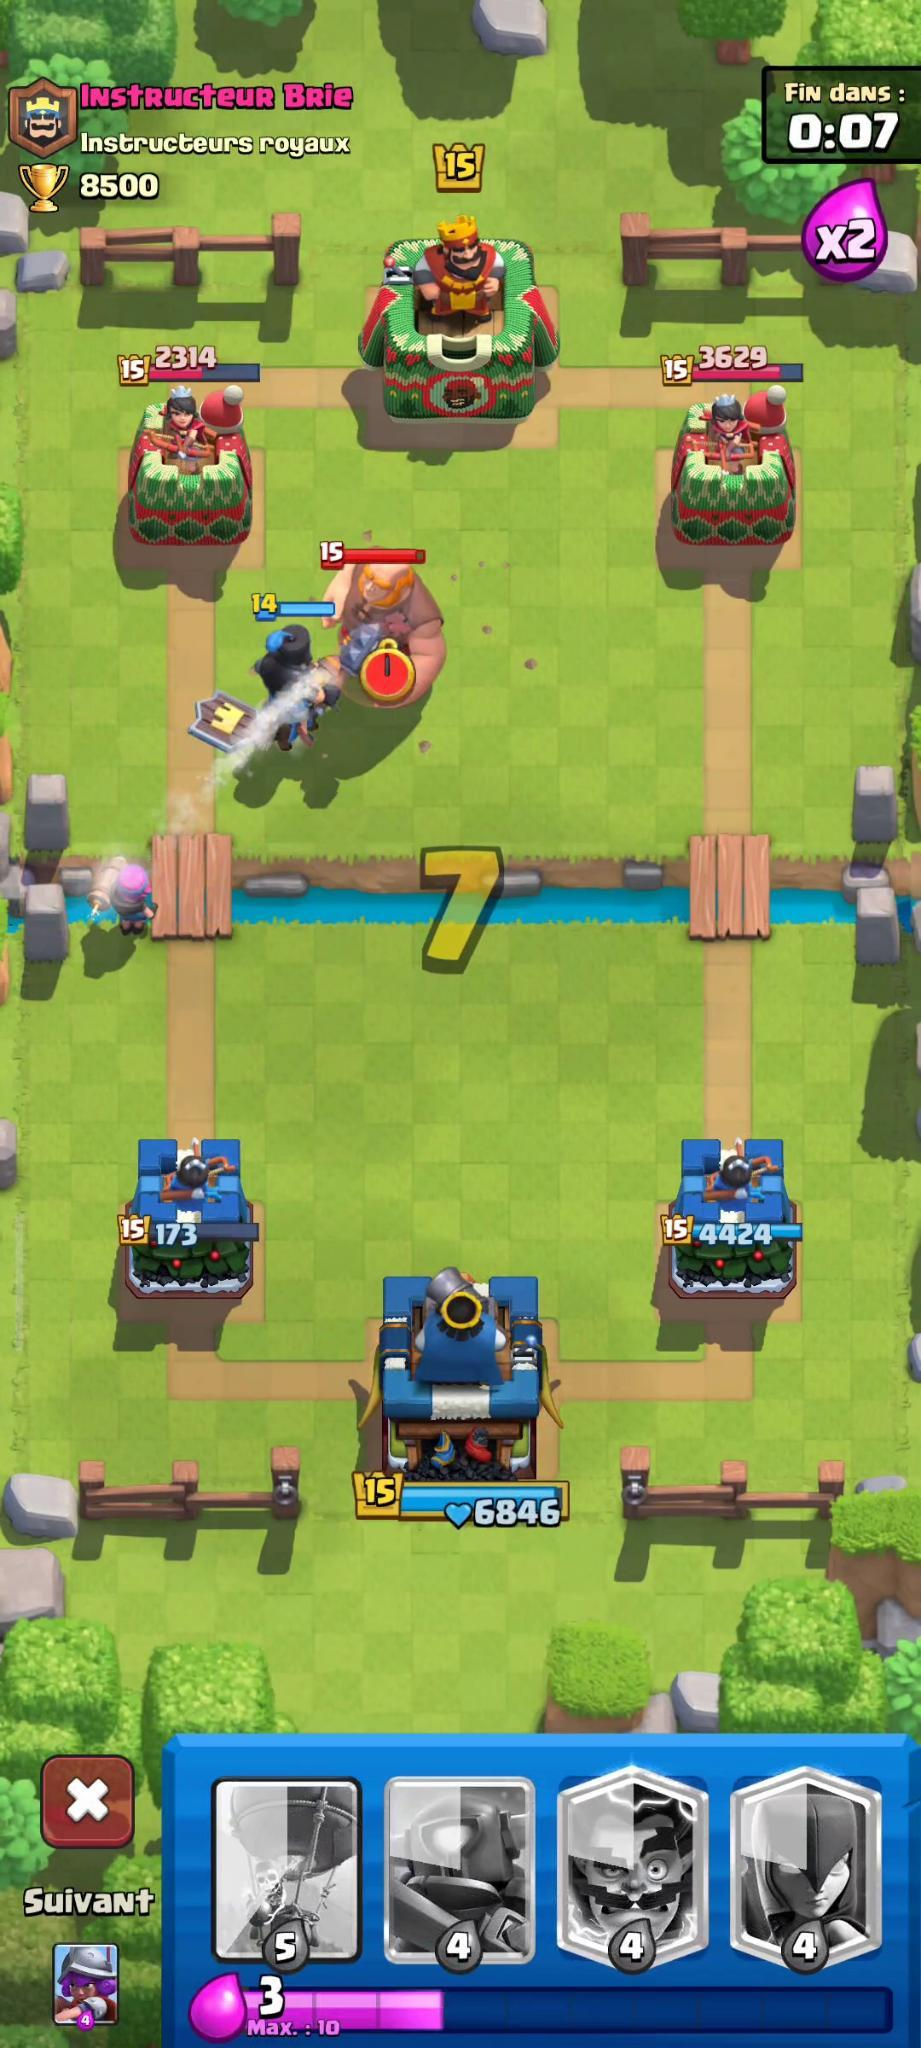enemy_giant: (323, 540, 455, 712)
player_dark_prince: (245, 590, 345, 752)
player_firecraker: (104, 852, 163, 944)
